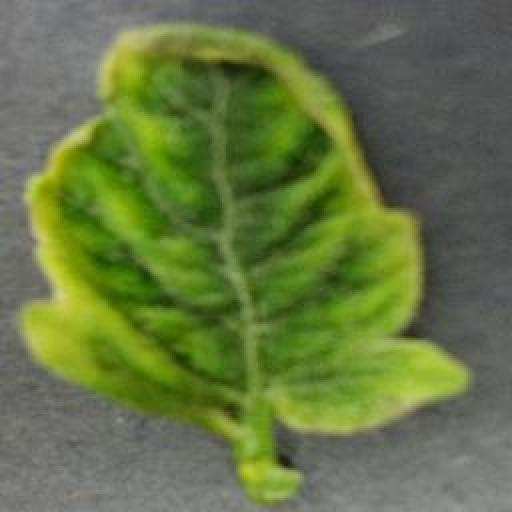Yellow Leaf Curl Virus: (19, 21, 475, 432)
